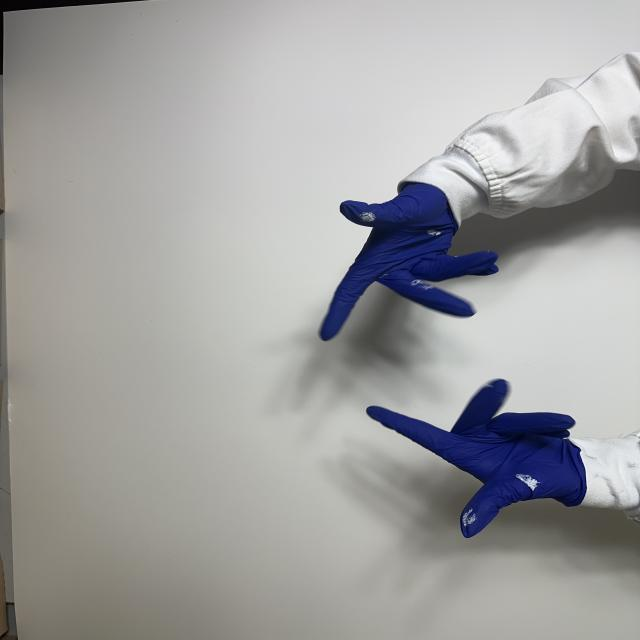gloves_contaminated: (367, 380, 586, 537), (320, 183, 498, 340)
